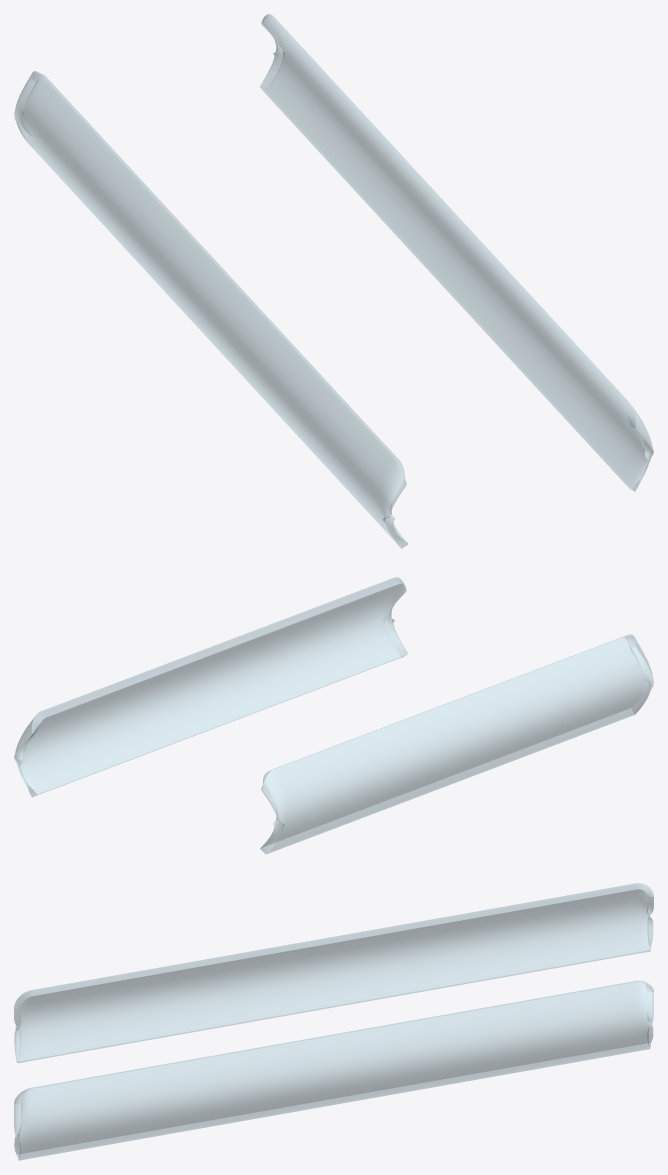
Rendered from SM_GlassWall_Ramp_Curved.fbx.
The picture shows the model from 3 angles, top to bottom: view 1: azimuth 30°, elevation 25°; view 2: azimuth 150°, elevation 25°; view 3: azimuth 270°, elevation 25°; orthographic projection. The views are drawn at different scales.
Visible parts, largest first — view 1: SM_GlassWall_Ramp_Curved; view 2: SM_GlassWall_Ramp_Curved; view 3: SM_GlassWall_Ramp_Curved.
Boxes of the visible parts, x1,y1,x2,y2 form: SM_GlassWall_Ramp_Curved: [14, 14, 653, 548]; SM_GlassWall_Ramp_Curved: [14, 577, 653, 854]; SM_GlassWall_Ramp_Curved: [14, 883, 653, 1160].
Size of the model in its own units: 1.66 by 1.24 by 3.98.
